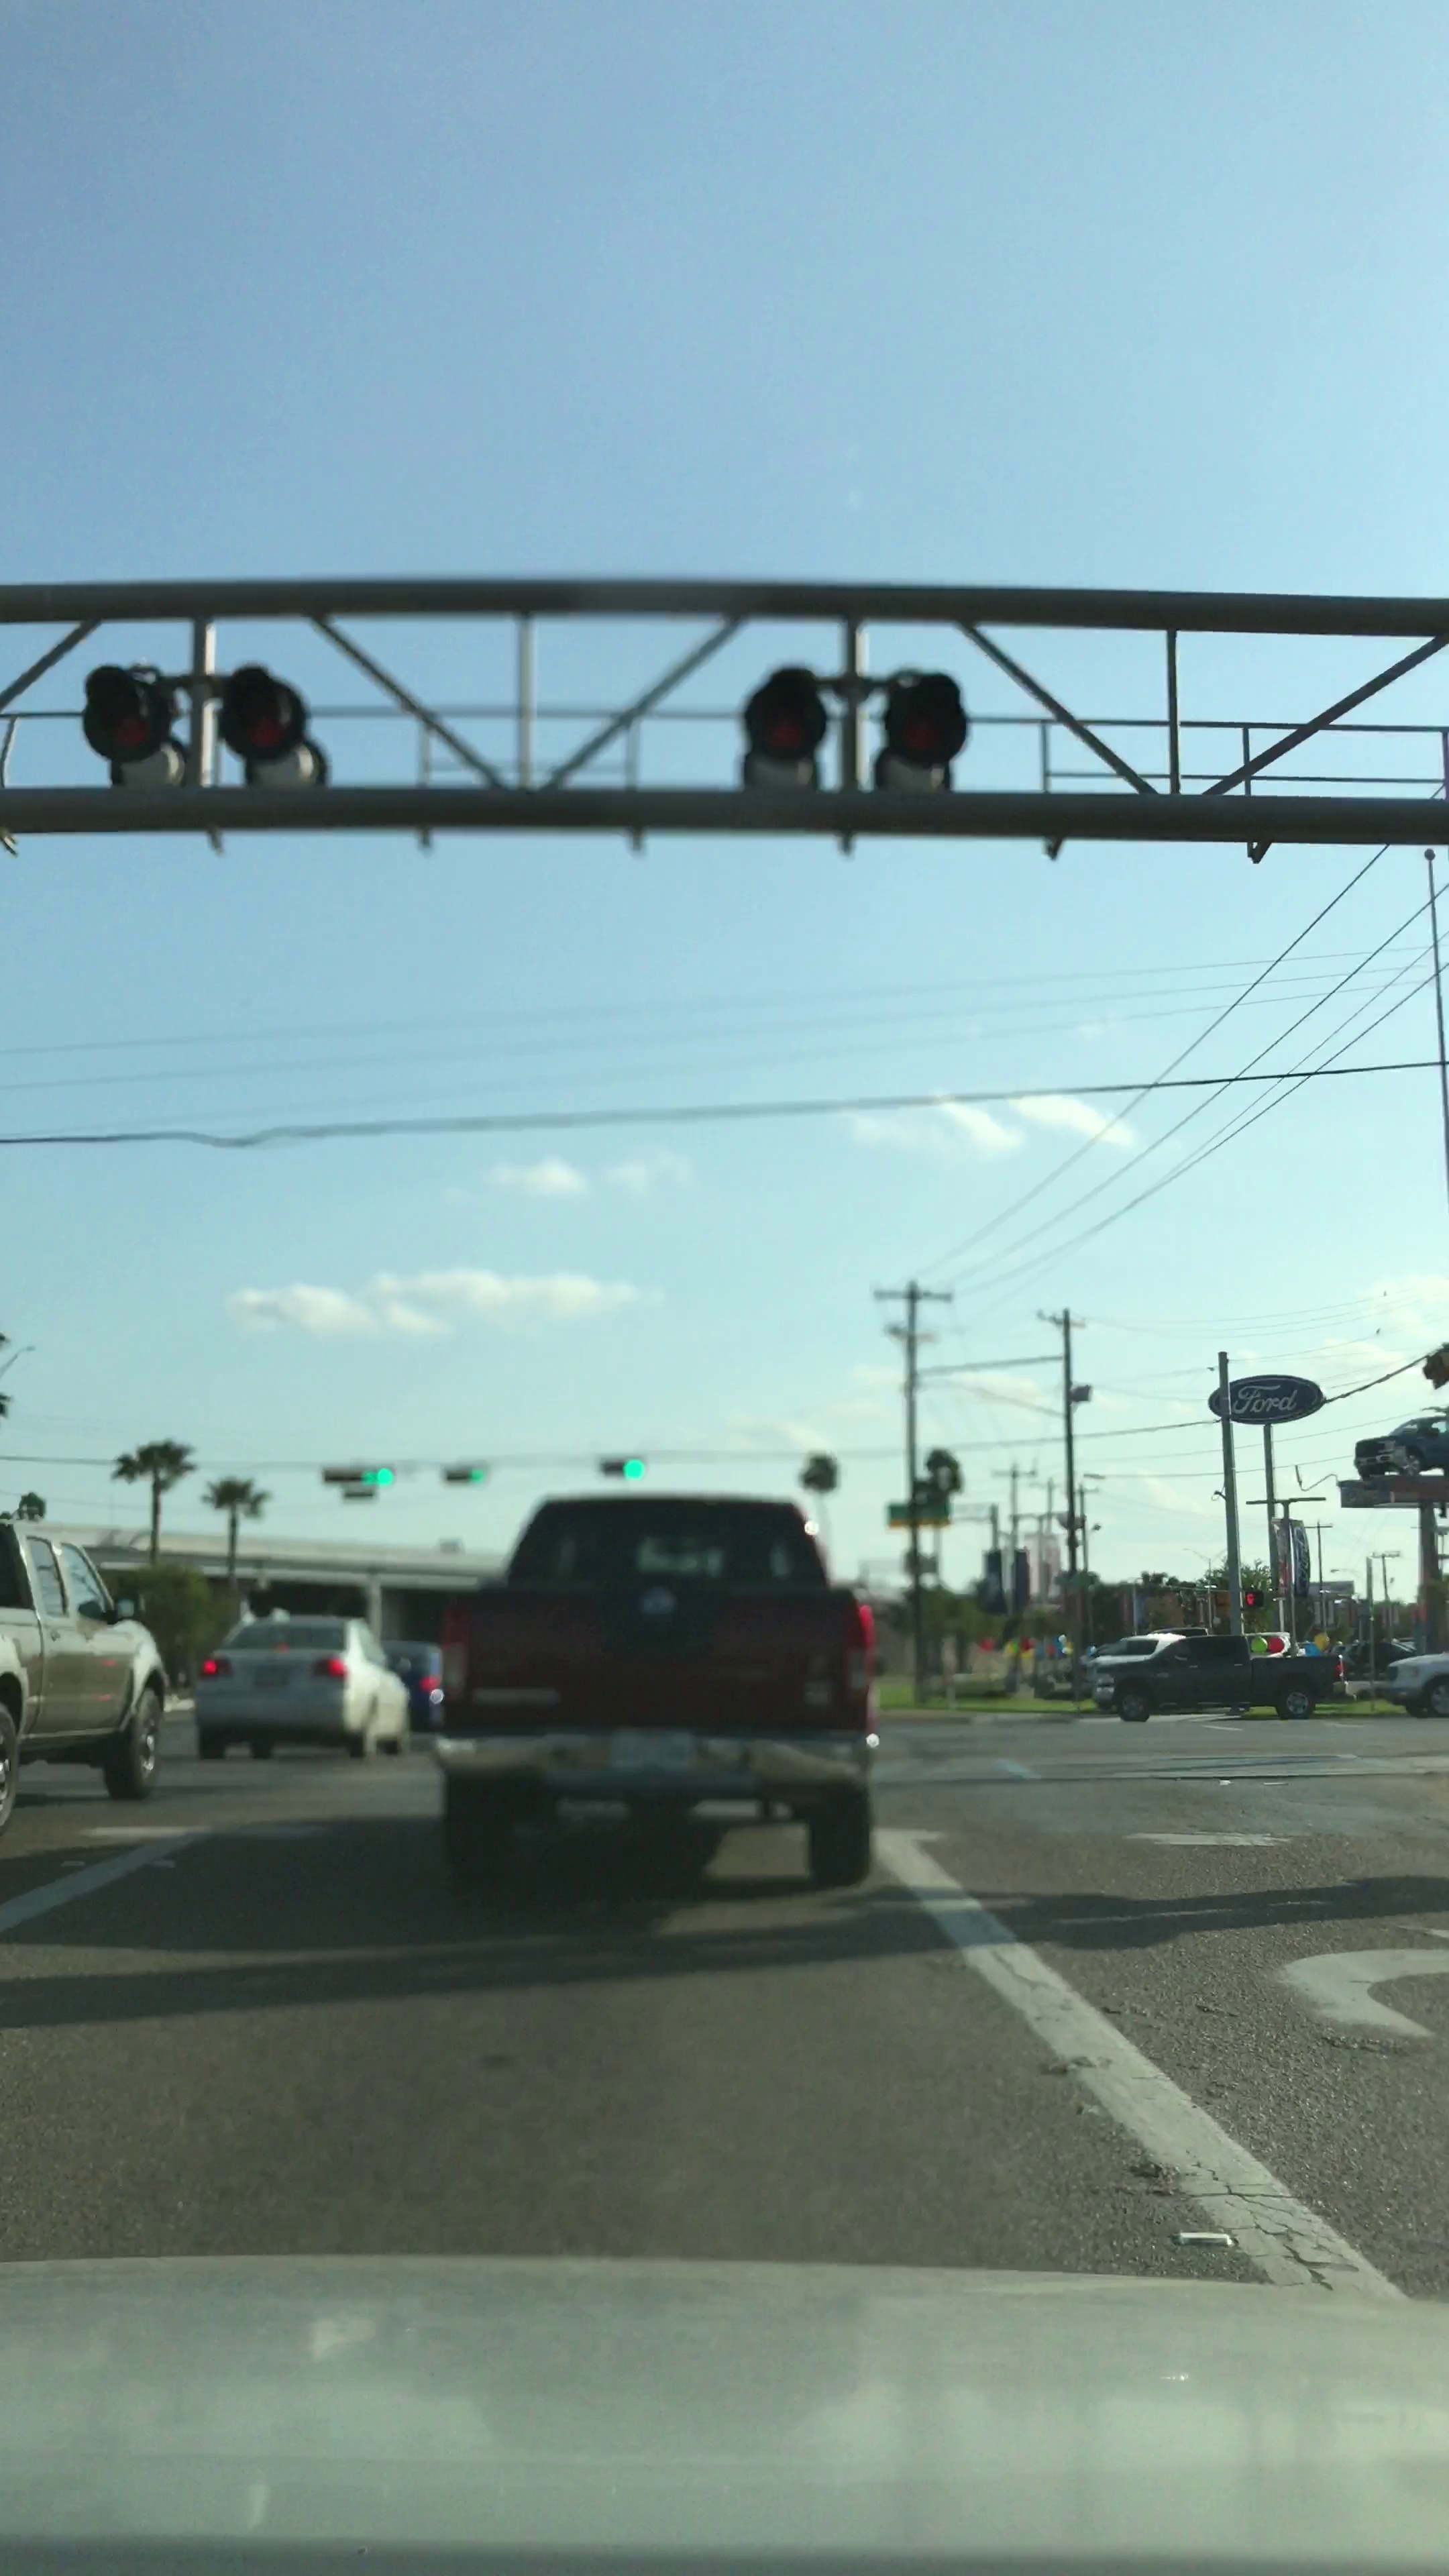crack: (1132, 2111, 1359, 2293)
